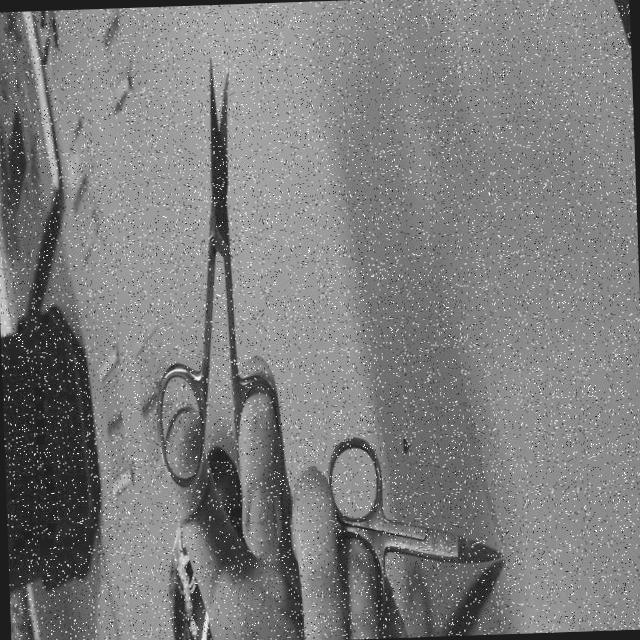scissors: (142, 50, 286, 507), (322, 419, 510, 630)
